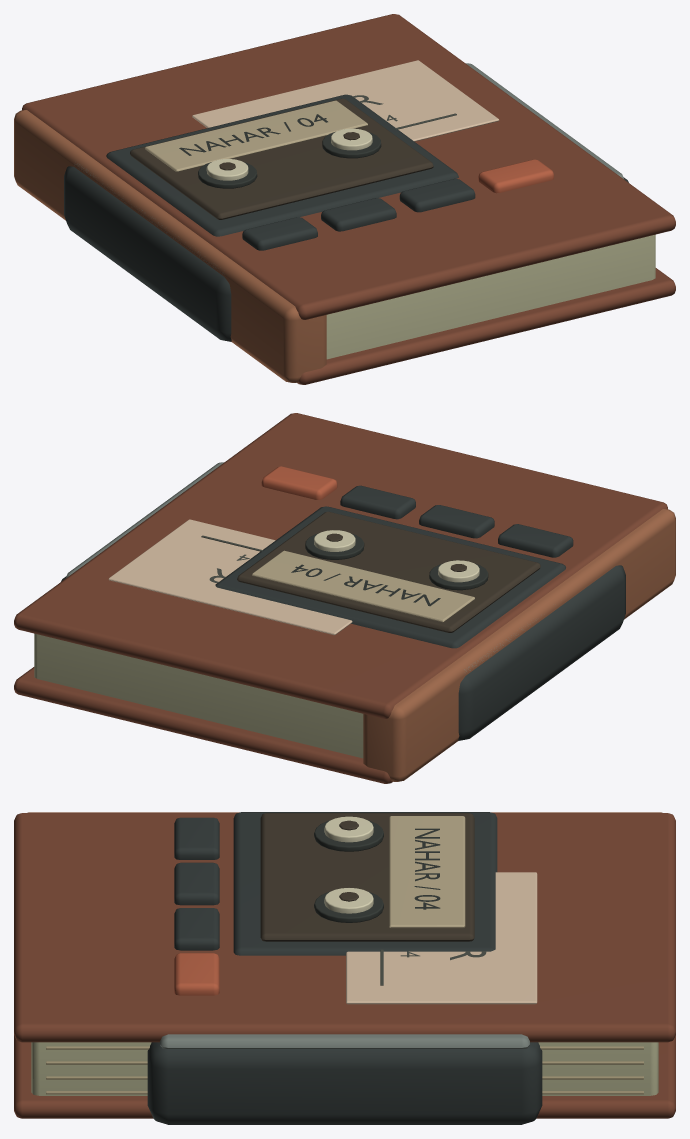
File: station-pickups.glb
3 views of the same model, one above another, from view 1: azimuth 30°, elevation 25°; view 2: azimuth 150°, elevation 25°; view 3: azimuth 270°, elevation 25° (orthographic). The views are drawn at different scales.
Parts seen in each view (by area): view 1: Fabric cover.001, Bound spine, Pages, Cassette, Lower shell, Glued label, Cassette lid frame, Fabric cover, Tape label, Transport key.002, Transport key.001, Transport key (+7 smaller); view 2: Fabric cover.001, Bound spine, Pages, Cassette, Lower shell, Glued label, Fabric cover, Cassette lid frame, Tape label, Transport key.002, Transport key.003, Transport key (+7 smaller); view 3: Fabric cover.001, Lower shell, Cassette, Glued label, Pages, Cassette lid frame, Tape label, Fabric cover, Top panel, Transport key.001, Transport key.003, Transport key (+10 smaller).
Boxes of the visible parts, left/top/right/bottom form: Fabric cover.001: left=22, top=14, right=675, bottom=319; Bound spine: left=14, top=110, right=326, bottom=382; Pages: left=326, top=234, right=655, bottom=359; Cassette: left=130, top=98, right=433, bottom=219; Lower shell: left=64, top=166, right=628, bottom=341; Glued label: left=192, top=60, right=499, bottom=141; Cassette lid frame: left=106, top=94, right=458, bottom=236; Fabric cover: left=297, top=268, right=675, bottom=384; Tape label: left=145, top=100, right=367, bottom=171; Transport key.002: left=399, top=178, right=475, bottom=212; Transport key.001: left=321, top=198, right=396, bottom=231; Transport key: left=242, top=217, right=317, bottom=250; Fabric cover.001: left=14, top=413, right=667, bottom=718; Bound spine: left=363, top=509, right=675, bottom=781; Pages: left=34, top=633, right=363, bottom=758; Cassette: left=237, top=511, right=540, bottom=632; Lower shell: left=61, top=565, right=625, bottom=740; Glued label: left=108, top=519, right=352, bottom=635; Fabric cover: left=14, top=667, right=392, bottom=783; Cassette lid frame: left=215, top=506, right=565, bottom=648; Tape label: left=252, top=550, right=474, bottom=622; Transport key.002: left=340, top=485, right=415, bottom=519; Transport key.003: left=261, top=466, right=337, bottom=499; Transport key: left=498, top=524, right=573, bottom=557; Fabric cover.001: left=14, top=813, right=675, bottom=1042; Lower shell: left=147, top=1042, right=542, bottom=1124; Cassette: left=260, top=813, right=474, bottom=941; Glued label: left=346, top=872, right=537, bottom=1004; Pages: left=31, top=1042, right=658, bottom=1095; Cassette lid frame: left=233, top=812, right=497, bottom=955; Tape label: left=389, top=816, right=465, bottom=928; Fabric cover: left=14, top=1035, right=675, bottom=1118; Top panel: left=160, top=1034, right=529, bottom=1048; Transport key.001: left=174, top=862, right=219, bottom=905; Transport key.003: left=174, top=953, right=219, bottom=995; Transport key: left=174, top=817, right=219, bottom=859.
Bounding box in the file's own units: 0.275 × 0.0646 × 0.322.
